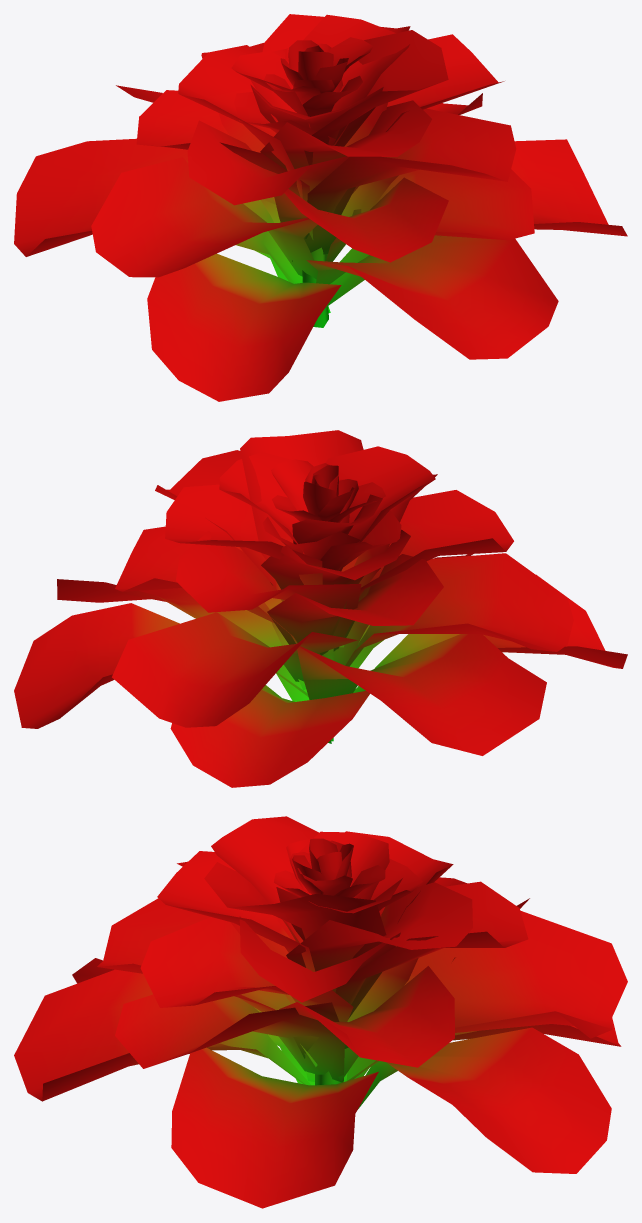
The model's file is White Ornamental Kale_LOD3_Var3_ue3ldcgja.fbx.
3 renders of one model, top to bottom at view 1: azimuth 30°, elevation 25°; view 2: azimuth 150°, elevation 25°; view 3: azimuth 270°, elevation 25°, orthographic. The views are drawn at different scales.
Visible parts, largest first — view 1: _d546_Var3_LOD3; view 2: _d546_Var3_LOD3; view 3: _d546_Var3_LOD3.
Boxes of the visible parts, x1,y1,x2,y2 form: _d546_Var3_LOD3: [14, 14, 627, 401]; _d546_Var3_LOD3: [14, 430, 627, 787]; _d546_Var3_LOD3: [14, 816, 627, 1208].
Size of the model in its own units: 86.36 by 43.51 by 84.11.
